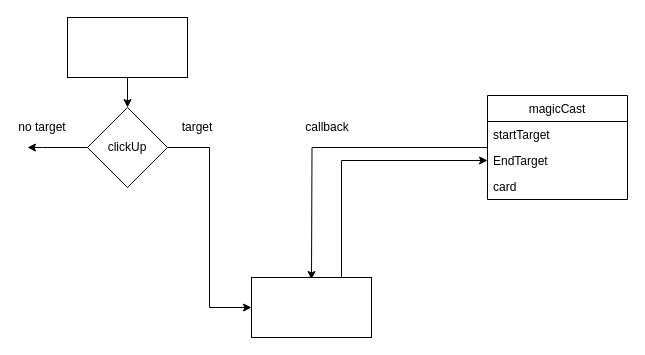
The diagram is 645 pixels wide and 355 high, and some of its shapes have lost their labels. Here are the shapes that lost their labels. From the top down, the box of each, then its label:
(66, 16, 188, 78): Battlescene
(250, 276, 372, 338): magicController
